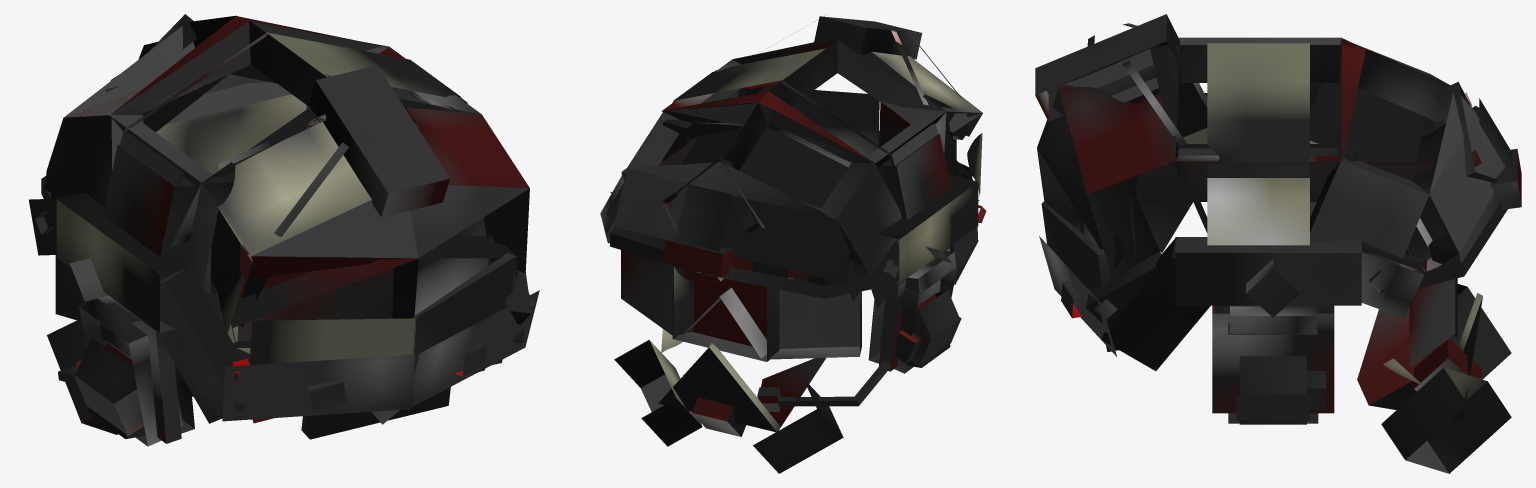
File: taro_h.obj
3 views of the same model, side by side, from view 1: azimuth 30°, elevation 25°; view 2: azimuth 150°, elevation 25°; view 3: azimuth 270°, elevation 25° (orthographic). The views are drawn at different scales.
Visible parts, largest first — view 1: plane; view 2: plane; view 3: plane.
Boxes of the visible parts, <box> form: plane: <box>29,14,539,446</box>; plane: <box>600,16,986,473</box>; plane: <box>1035,14,1521,473</box>.
Bounding box in the file's own units: 1.01 × 0.89 × 0.9474.
